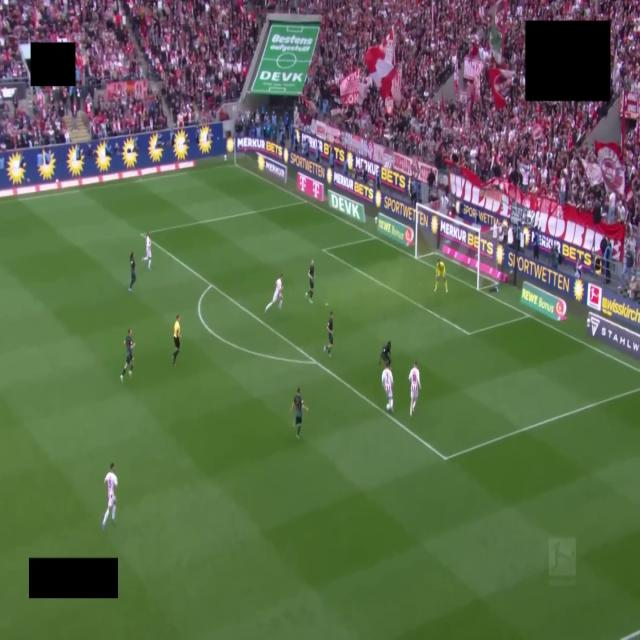ball: (386, 403, 390, 410)
player: (102, 463, 117, 529), (290, 388, 308, 439), (121, 328, 134, 381), (265, 274, 283, 312), (409, 362, 420, 415), (382, 365, 393, 412), (434, 260, 447, 292), (324, 312, 333, 357), (306, 260, 314, 303), (142, 232, 151, 270), (129, 252, 136, 292), (379, 342, 390, 367)
referee: (173, 315, 180, 366)
